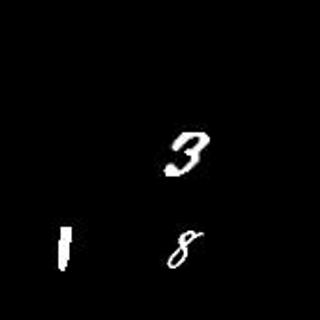eight: (165, 230, 207, 267)
one: (54, 226, 76, 271)
three: (165, 126, 212, 180)
